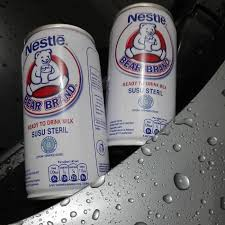metal: (17, 23, 110, 201), (105, 3, 178, 149)
